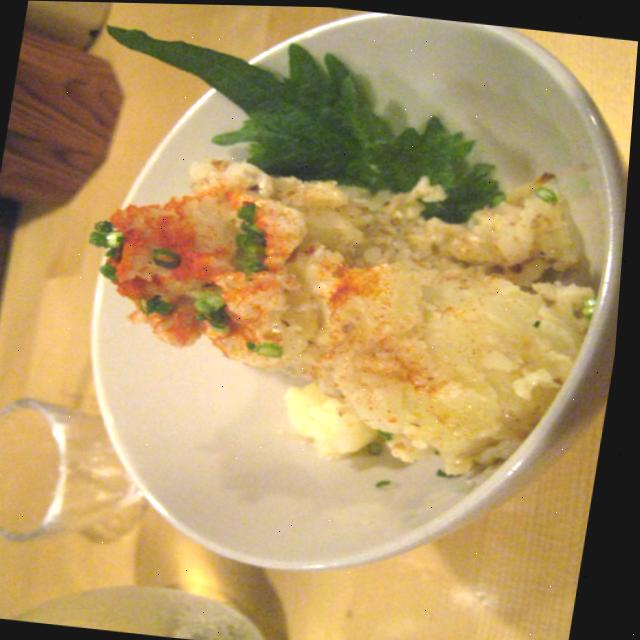蔬菜料理: (13, 1, 640, 609)
